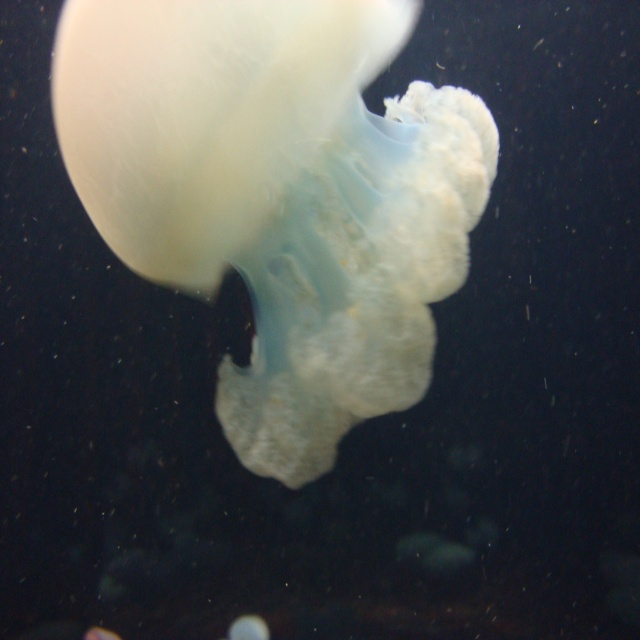Jellyfish: (46, 0, 500, 491)
